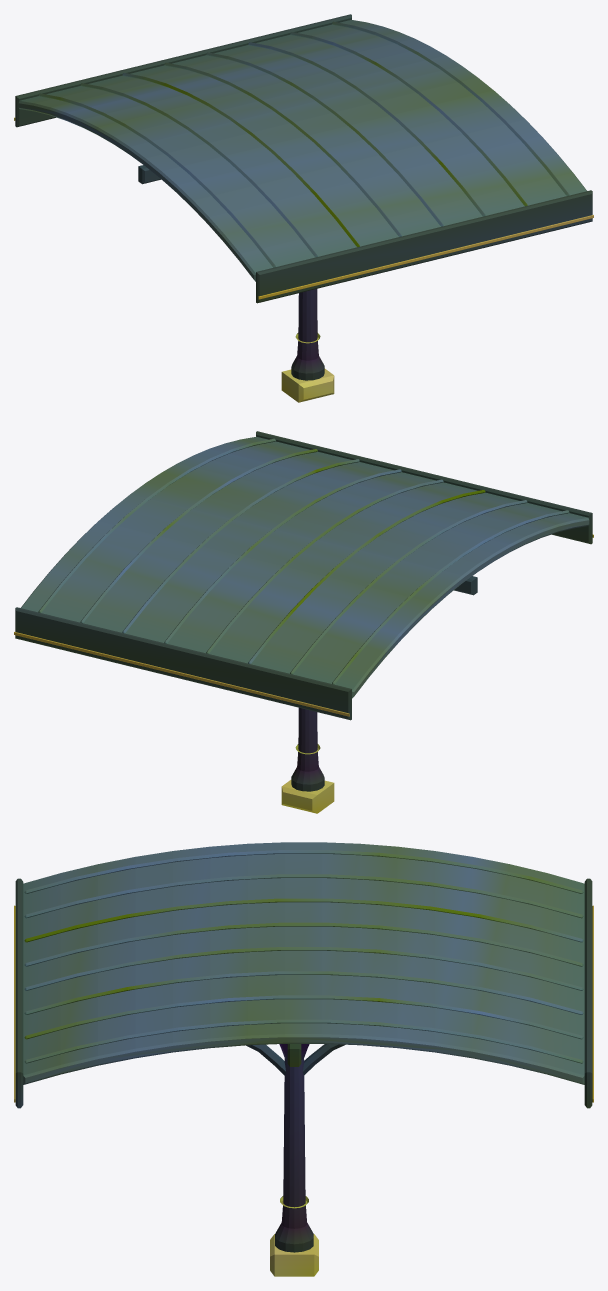
File: GS_PlatformCanopy_Side_6m.glb
3 renders of one model, top to bottom at view 1: azimuth 30°, elevation 25°; view 2: azimuth 150°, elevation 25°; view 3: azimuth 270°, elevation 25°, orthographic. The views are drawn at different scales.
Parts seen in each view (by area): view 1: GS_PlatformCanopy_Side_6m; view 2: GS_PlatformCanopy_Side_6m; view 3: GS_PlatformCanopy_Side_6m.
Boxes of the visible parts, x1,y1,x2,y2 form: GS_PlatformCanopy_Side_6m: (14, 14, 593, 402); GS_PlatformCanopy_Side_6m: (14, 431, 593, 813); GS_PlatformCanopy_Side_6m: (14, 842, 593, 1276).
Size of the model in its own units: 6 by 4.79 by 7.59.
